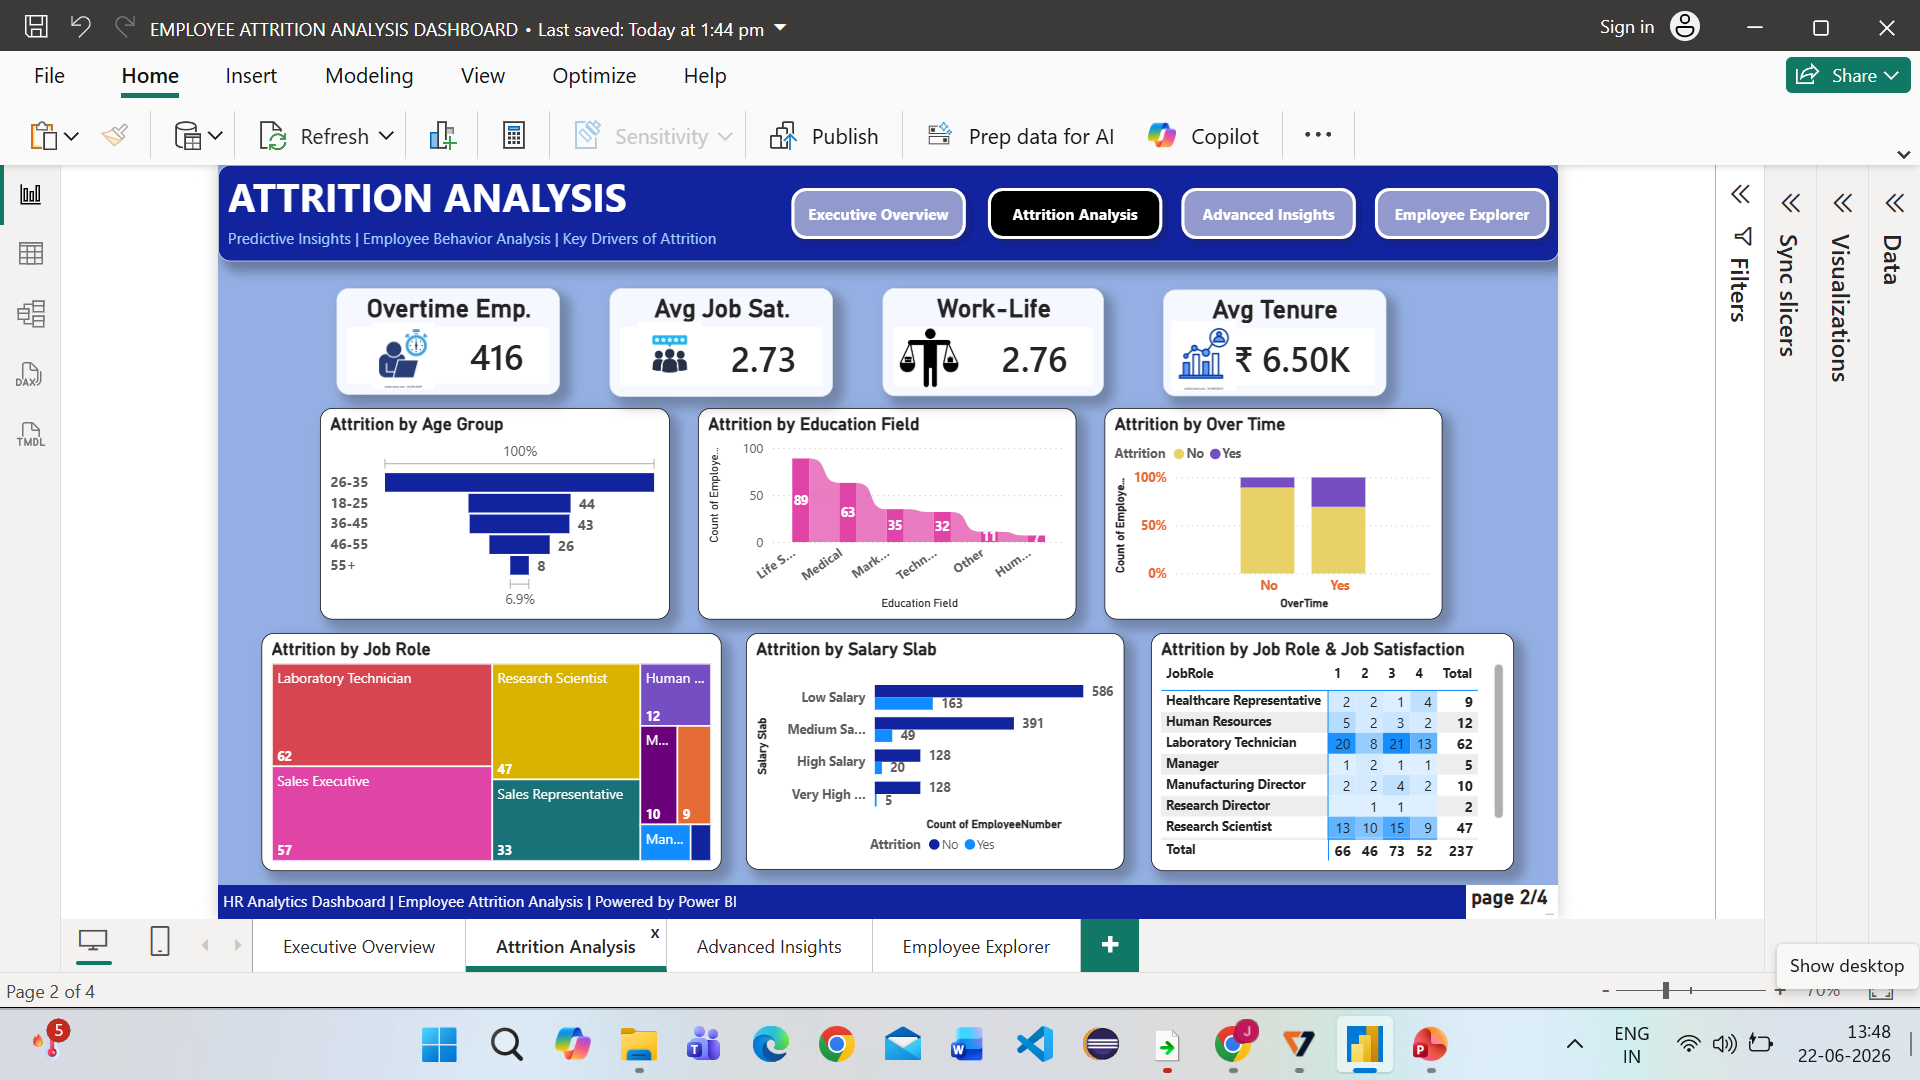

The dashboard page shown, as its layout file describes it:
{"tool":"powerbi","page":{"name":"Attrition Analysis","canvas":[1280,720],"ordinal":1},"visuals":[{"type":"funnel","title":"Attrition by Age Group","fields":{"Category":["WA_Fn-UseC_-HR-Employee-Attrition.Age Group"],"Y":["CountNonNull(WA_Fn-UseC_-HR-Employee-Attrition.EmployeeNumber)"]},"box":[97,232.2,334,202],"z":0},{"type":"textbox","title":"ATTRITION ANALYSIS","box":[0,0,1280.4,92.3],"z":1000},{"type":"treemap","title":"Attrition by Job Role","fields":{"Group":["WA_Fn-UseC_-HR-Employee-Attrition.JobRole"],"Values":["CountNonNull(WA_Fn-UseC_-HR-Employee-Attrition.EmployeeNumber)"]},"box":[41.4,447,439,227.5],"z":2000},{"type":"ribbonChart","title":"Attrition by Education Field","fields":{"Category":["WA_Fn-UseC_-HR-Employee-Attrition.EducationField"],"Y":["CountNonNull(WA_Fn-UseC_-HR-Employee-Attrition.EmployeeNumber)"]},"box":[458.1,232.2,361.1,202],"z":3000},{"type":"hundredPercentStackedColumnChart","title":"Attrition by Over Time","fields":{"Category":["WA_Fn-UseC_-HR-Employee-Attrition.OverTime"],"Y":["CountNonNull(WA_Fn-UseC_-HR-Employee-Attrition.EmployeeNumber)"],"Series":["WA_Fn-UseC_-HR-Employee-Attrition.Attrition"]},"box":[846.2,232.2,322.9,202],"z":4000},{"type":"clusteredBarChart","title":"Attrition by Salary Slab","fields":{"Category":["WA_Fn-UseC_-HR-Employee-Attrition.Salary Slab"],"Y":["CountNonNull(WA_Fn-UseC_-HR-Employee-Attrition.EmployeeNumber)"],"Series":["WA_Fn-UseC_-HR-Employee-Attrition.Attrition"]},"box":[504.2,447,361.1,225.9],"z":5000},{"type":"pivotTable","title":"Attrition by Job Role & Job Satisfaction","fields":{"Rows":["WA_Fn-UseC_-HR-Employee-Attrition.JobRole"],"Values":["WA_Fn-UseC_-HR-Employee-Attrition.Attrition Count"],"Columns":["WA_Fn-UseC_-HR-Employee-Attrition.JobSatisfaction"]},"box":[890.7,447,346.8,227.5],"z":6000},{"type":"cardVisual","title":"Overtime Emp.","fields":{"Data":["WA_Fn-UseC_-HR-Employee-Attrition.Employees Working Overtime"]},"box":[112.9,117.7,213.1,101.8],"z":7000},{"type":"cardVisual","title":"Avg Job Sat.","fields":{"Data":["WA_Fn-UseC_-HR-Employee-Attrition.Average Job Satisfaction"]},"box":[374.2,117.2,213.5,103.9],"z":8000},{"type":"cardVisual","title":"Work-Life","fields":{"Data":["WA_Fn-UseC_-HR-Employee-Attrition.Average Work Life Balance"]},"box":[634.7,117.7,211.6,103.4],"z":9000},{"type":"cardVisual","title":"Avg Income","fields":{"Data":["WA_Fn-UseC_-HR-Employee-Attrition.Average Years At Company"]},"box":[901.9,119.3,213.1,101.8],"z":10000},{"type":"image","box":[135.2,151.1,84.3,63.6],"z":11000},{"type":"image","box":[400.8,146.3,60.4,68.4],"z":12000},{"type":"image","box":[641,155.9,74.8,55.7],"z":13000},{"type":"image","box":[901.9,149.5,77.9,66.8],"z":14000},{"type":"textbox","box":[0,687.1,1280.4,33.4],"z":21001},{"type":"textbox","title":"page 2/4","box":[1191.4,687.1,89.1,33.4],"z":21002},{"type":"actionButton","box":[539.2,12.7,184.5,66.8],"z":21003},{"type":"actionButton","box":[726.9,12.7,184.5,66.8],"z":21004},{"type":"actionButton","box":[911.4,12.7,184.5,66.8],"z":21005},{"type":"actionButton","box":[1095.9,12.7,184.5,66.8],"z":21006}]}

Visuals, with their boxes on the page's 1280x720 design canvas (x1, y1, x2, y2). These are canvas units, not pixel positions in the 1920x1080 screenshot, which may show the page scaled, cropped or inside an application window:
"Attrition by Age Group" funnel: detection(97, 232, 431, 434)
"ATTRITION ANALYSIS" textbox: detection(0, 0, 1280, 92)
"Attrition by Job Role" treemap: detection(41, 447, 480, 674)
"Attrition by Education Field" ribbonChart: detection(458, 232, 819, 434)
"Attrition by Over Time" hundredPercentStackedColumnChart: detection(846, 232, 1169, 434)
"Attrition by Salary Slab" clusteredBarChart: detection(504, 447, 865, 673)
"Attrition by Job Role & Job Satisfaction" pivotTable: detection(891, 447, 1238, 674)
"Overtime Emp." cardVisual: detection(113, 118, 326, 220)
"Avg Job Sat." cardVisual: detection(374, 117, 588, 221)
"Work-Life" cardVisual: detection(635, 118, 846, 221)
"Avg Income" cardVisual: detection(902, 119, 1115, 221)
image: detection(135, 151, 220, 215)
image: detection(401, 146, 461, 215)
image: detection(641, 156, 716, 212)
image: detection(902, 150, 980, 216)
textbox: detection(0, 687, 1280, 720)
"page 2/4" textbox: detection(1191, 687, 1280, 720)
actionButton: detection(539, 13, 724, 80)
actionButton: detection(727, 13, 911, 80)
actionButton: detection(911, 13, 1096, 80)
actionButton: detection(1096, 13, 1280, 80)
